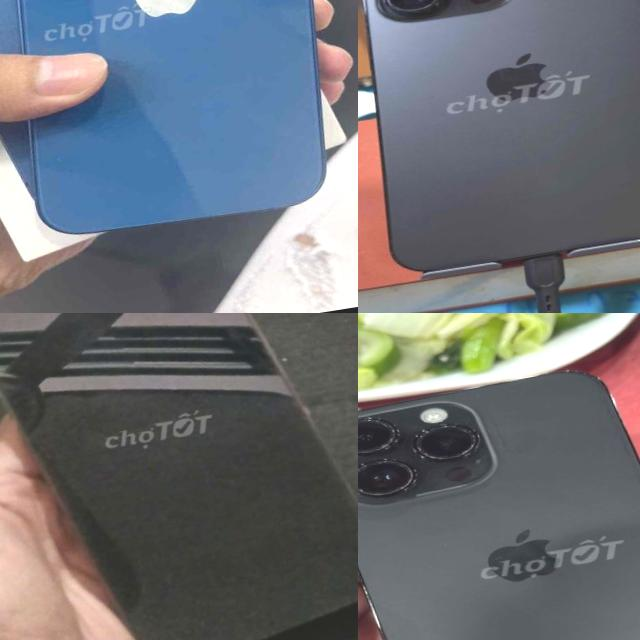gen_12_13: (0, 313, 358, 640), (0, 0, 349, 251)
gen_14: (358, 343, 640, 640), (358, 0, 640, 284)
